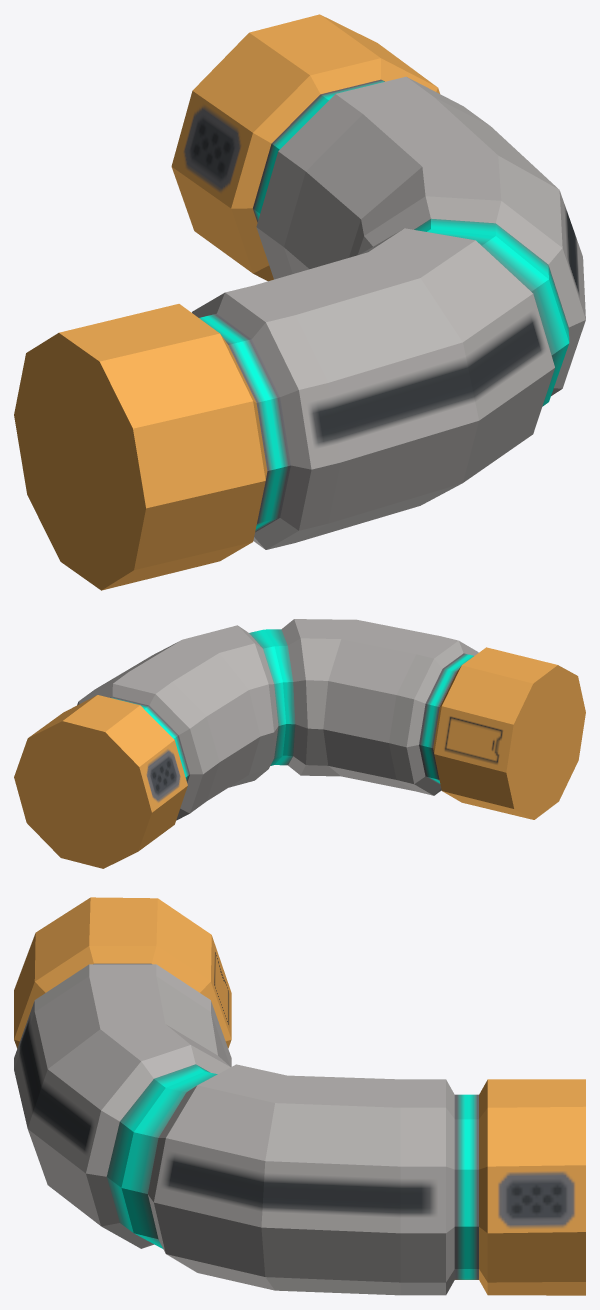
File: SM_Bld_Pipe_Large_Bend_01.fbx
3 renders of one model, top to bottom at view 1: azimuth 30°, elevation 25°; view 2: azimuth 150°, elevation 25°; view 3: azimuth 270°, elevation 25°, orthographic. The views are drawn at different scales.
Parts seen in each view (by area): view 1: SM_Bld_Pipe_Large_Bend_01; view 2: SM_Bld_Pipe_Large_Bend_01; view 3: SM_Bld_Pipe_Large_Bend_01.
Part boxes in pixels (x1,y1,x2,y2): SM_Bld_Pipe_Large_Bend_01: [14, 14, 585, 590]; SM_Bld_Pipe_Large_Bend_01: [14, 619, 585, 868]; SM_Bld_Pipe_Large_Bend_01: [14, 897, 585, 1295].
Bounding box in the file's own units: 309 × 112 × 309.
